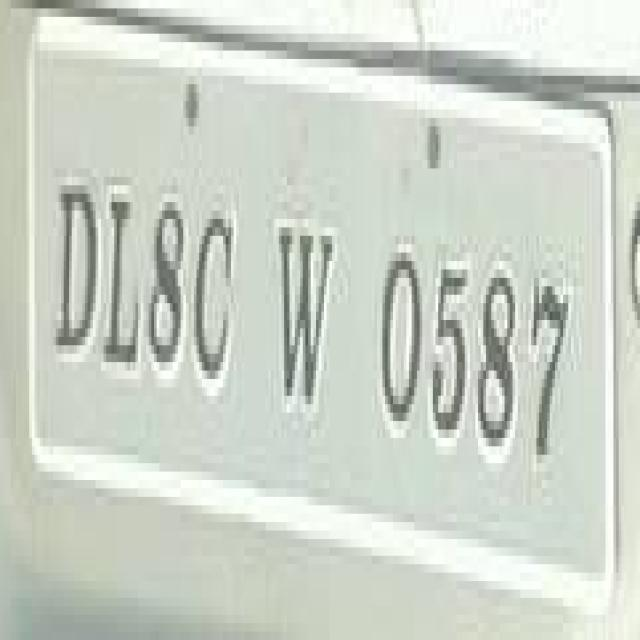license_plate: (13, 59, 640, 547)
